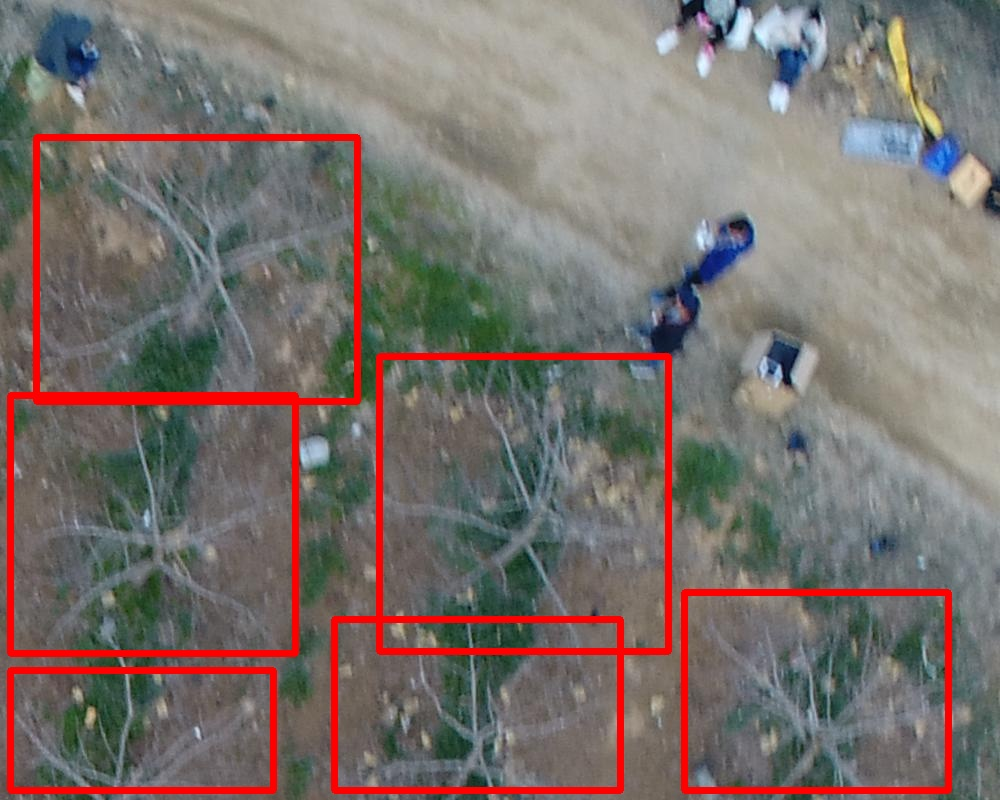apple: (379, 356, 668, 651), (36, 137, 357, 401), (10, 395, 295, 653), (684, 592, 948, 790), (334, 619, 620, 790), (10, 670, 273, 790)
